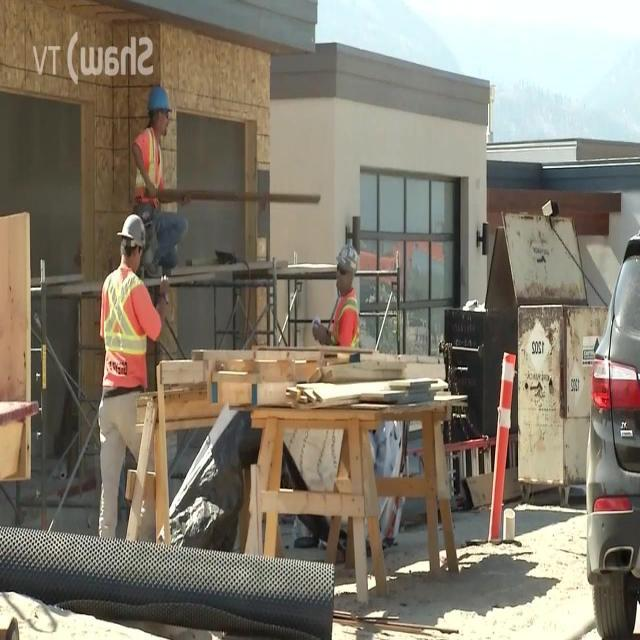reflective_jacket: (98, 267, 150, 393), (129, 126, 166, 211), (328, 288, 362, 355)
safety_helmet: (115, 207, 148, 252), (144, 80, 173, 120), (333, 238, 362, 273)
